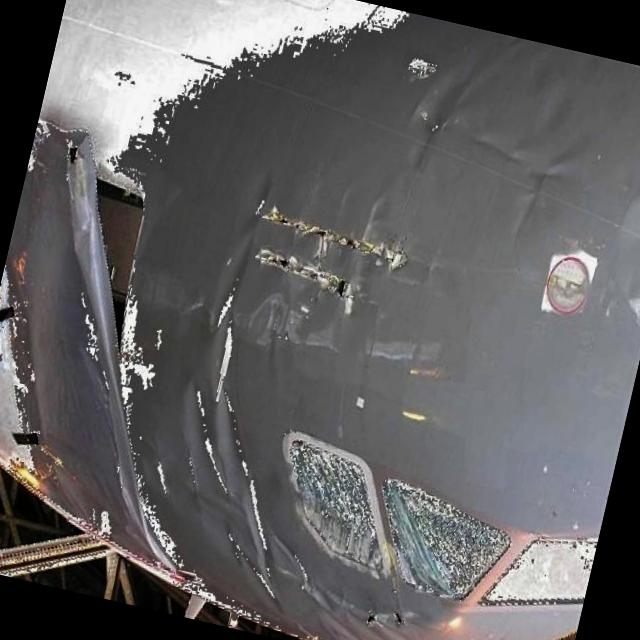crack: (232, 193, 422, 333)
